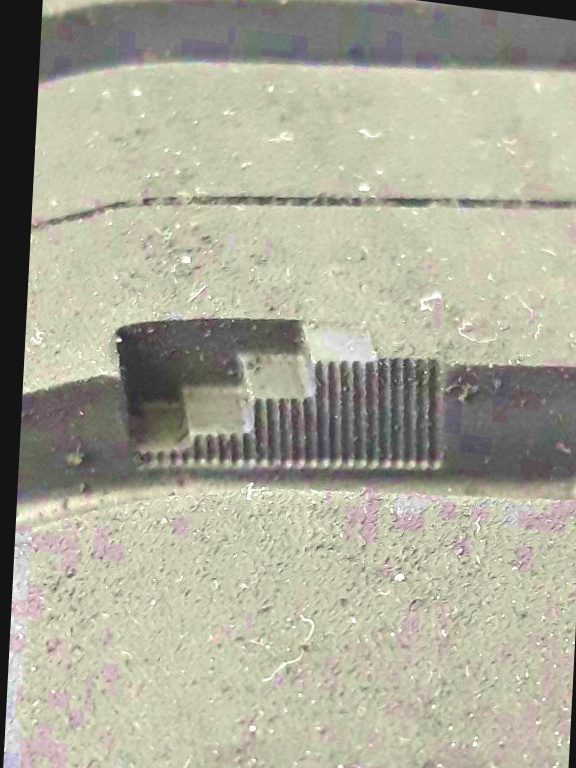temoin:75: (86, 274, 395, 529)
